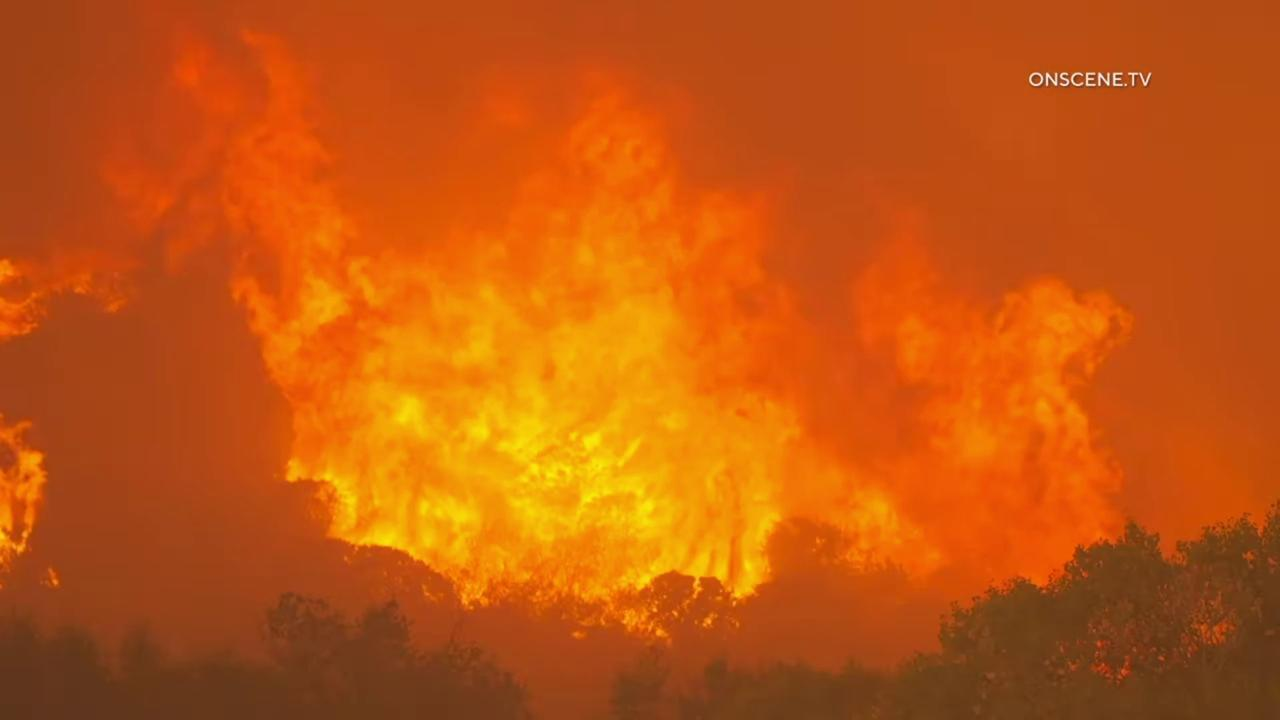fire: (0, 28, 1142, 640), (0, 405, 51, 595)
smoke: (0, 0, 1280, 720)
